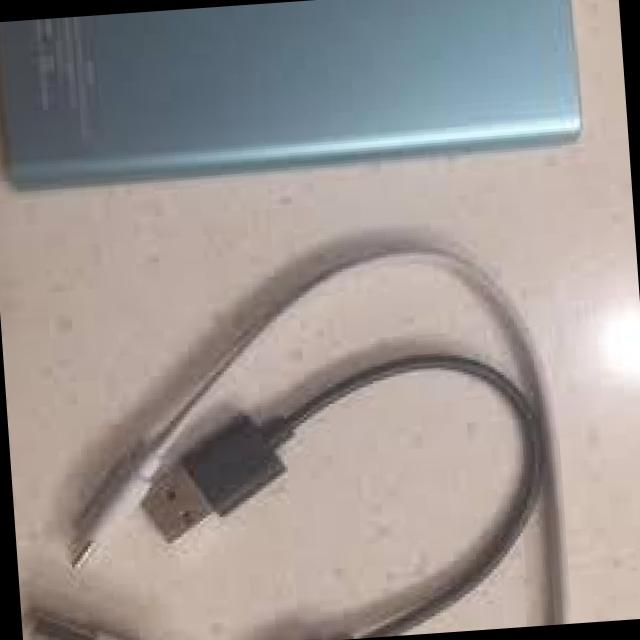portable-charger: (0, 0, 579, 191)
